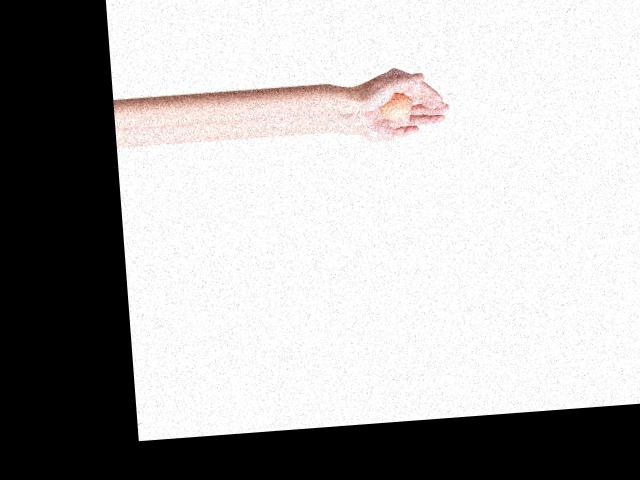egg: (380, 92, 412, 119)
